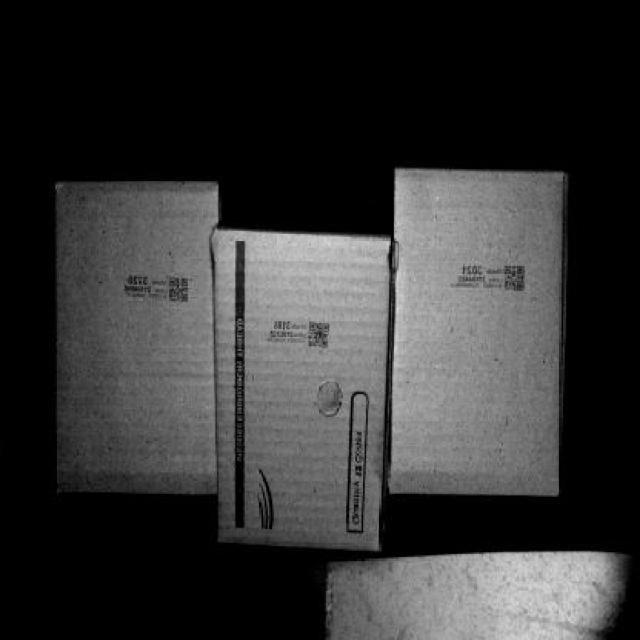cardboxes: (387, 168, 562, 497), (216, 236, 384, 544), (57, 189, 212, 502)
